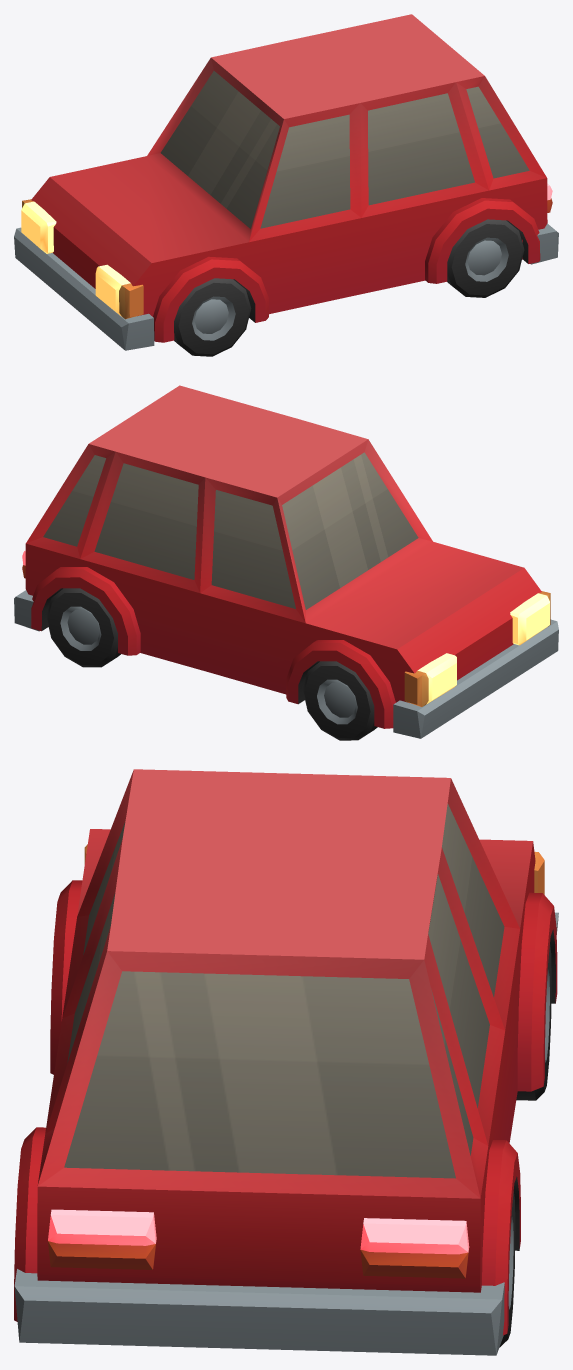
Rendered from car_03.glb.
3 views of the same model, one above another, from view 1: azimuth 30°, elevation 25°; view 2: azimuth 150°, elevation 25°; view 3: azimuth 270°, elevation 25° (orthographic). The views are drawn at different scales.
Parts seen in each view (by area): view 1: car_03, car_hatchback_wheel_front_left, car_hatchback_wheel_rear_left; view 2: car_03, car_hatchback_wheel_front_right, car_hatchback_wheel_rear_right; view 3: car_03, car_hatchback_wheel_front_right, car_hatchback_wheel_rear_right.
Boxes of the visible parts, x1,y1,x2,y2 form: car_03: (14,14,558,350); car_hatchback_wheel_front_left: (174,278,251,356); car_hatchback_wheel_rear_left: (447,219,524,297); car_03: (14,385,558,738); car_hatchback_wheel_front_right: (303,661,377,740); car_hatchback_wheel_rear_right: (46,588,120,667); car_03: (14,769,558,1355); car_hatchback_wheel_front_right: (516,945,551,1100); car_hatchback_wheel_rear_right: (499,1191,515,1347).
Size of the model in its own units: 0.8269 by 0.3718 by 0.4619.
Materials: 3 (1 with a texture image).
